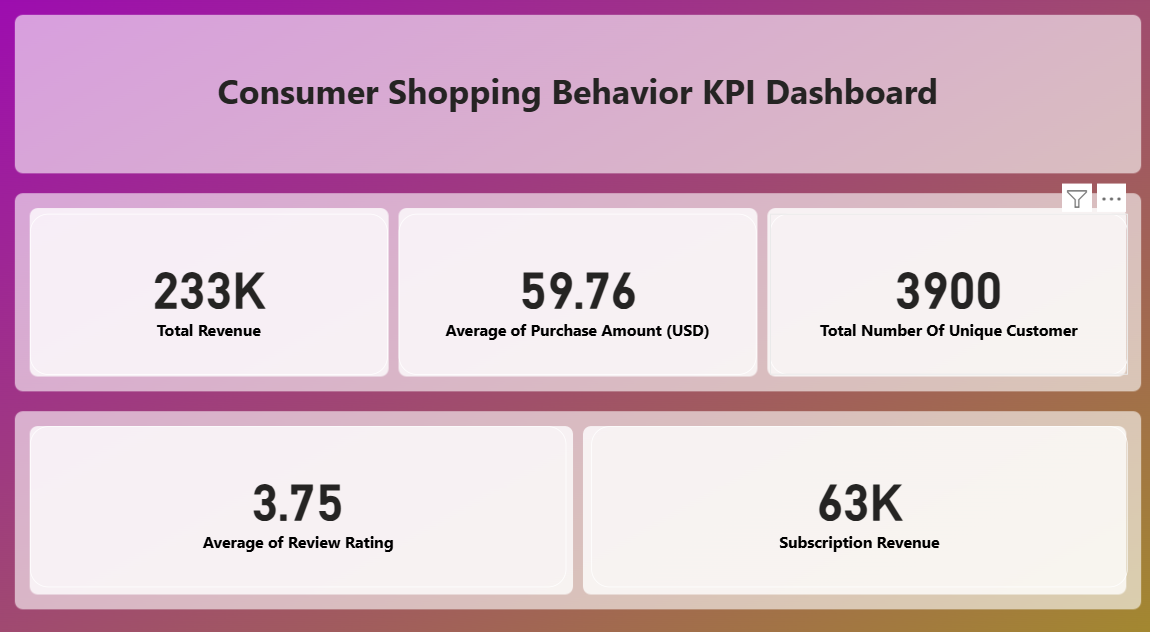

The dashboard page shown, as its layout file describes it:
{"tool":"powerbi","page":{"name":"KPI","canvas":[1280,720],"ordinal":1},"visuals":[{"type":"card","fields":{"Values":["Sum(Consumer Shopping Behavior.Purchase Amount (USD))"]},"box":[38.4,240.1,392.5,177],"z":0},{"type":"card","fields":{"Values":["Avg(Consumer Shopping Behavior.Purchase Amount (USD))"]},"box":[443.2,240.1,392.5,177],"z":1000},{"type":"card","fields":{"Values":["Count(Consumer Shopping Behavior.Customer ID)"]},"box":[850.8,240.1,392.5,177],"z":2000},{"type":"card","fields":{"Values":["Avg(Consumer Shopping Behavior.Review Rating)"]},"box":[38.4,473.4,588.7,177],"z":3000},{"type":"card","fields":{"Values":["Sum(Consumer Shopping Behavior.Purchase Amount (USD))"]},"box":[654.5,473.4,588.7,177],"z":4000},{"type":"textbox","box":[37.4,22.2,1205.5,174.6],"z":5000}]}

Visuals, with their boxes in screenshot pixels (x1, y1, x2, y2), scaled from the page's 1280x720 canvas onto the 1150x632 screenshot:
card - Sum(Consumer Shopping Behavior.Purchase Amount (USD)): 34,211,387,366
card - Avg(Consumer Shopping Behavior.Purchase Amount (USD)): 398,211,751,366
card - Count(Consumer Shopping Behavior.Customer ID): 764,211,1117,366
card - Avg(Consumer Shopping Behavior.Review Rating): 34,416,563,571
card - Sum(Consumer Shopping Behavior.Purchase Amount (USD)): 588,416,1117,571
textbox: 34,19,1117,173
